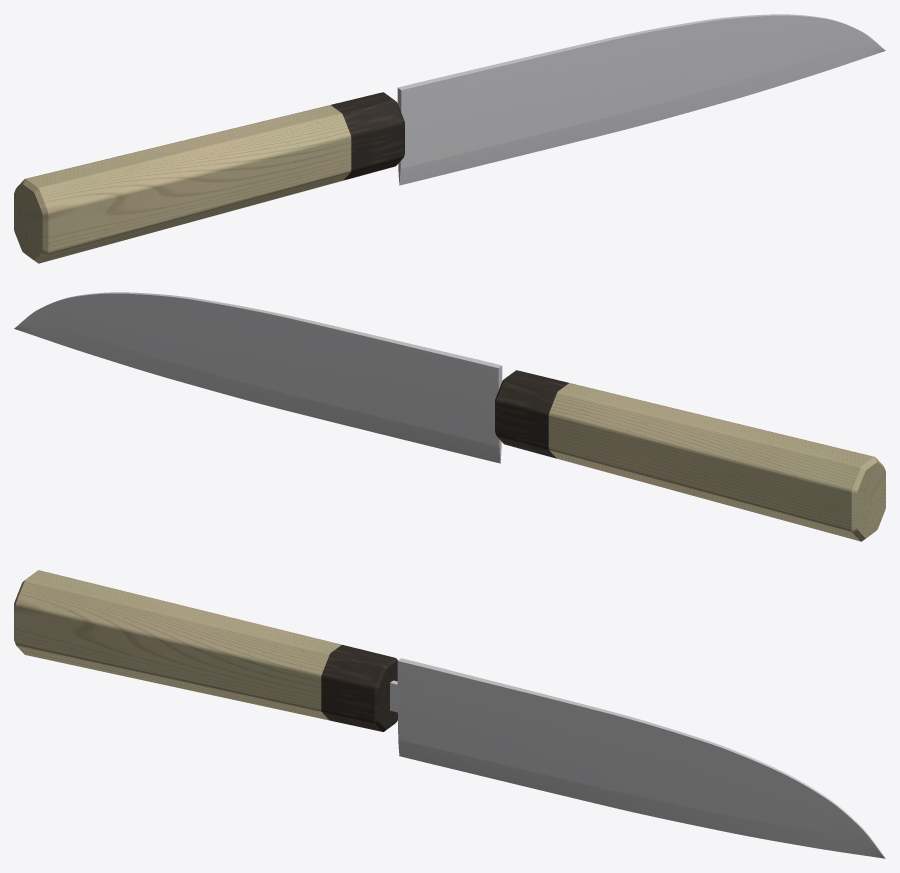
File: petty-side.glb
3 views of the same model, one above another, from view 1: azimuth 30°, elevation 25°; view 2: azimuth 150°, elevation 25°; view 3: azimuth 330°, elevation 25° (orthographic).
Visible parts, largest first — view 1: steel, handle; view 2: steel, handle; view 3: steel, handle.
Boxes of the visible parts, <box> form: steel: <box>397,14,885,185</box>; handle: <box>14,92,404,263</box>; steel: <box>14,292,502,463</box>; handle: <box>495,370,885,541</box>; steel: <box>390,658,885,858</box>; handle: <box>14,570,397,731</box>.
Bounding box in the file's own units: 0.2785 × 0.03 × 0.0185.
4 materials, 2 textured.
